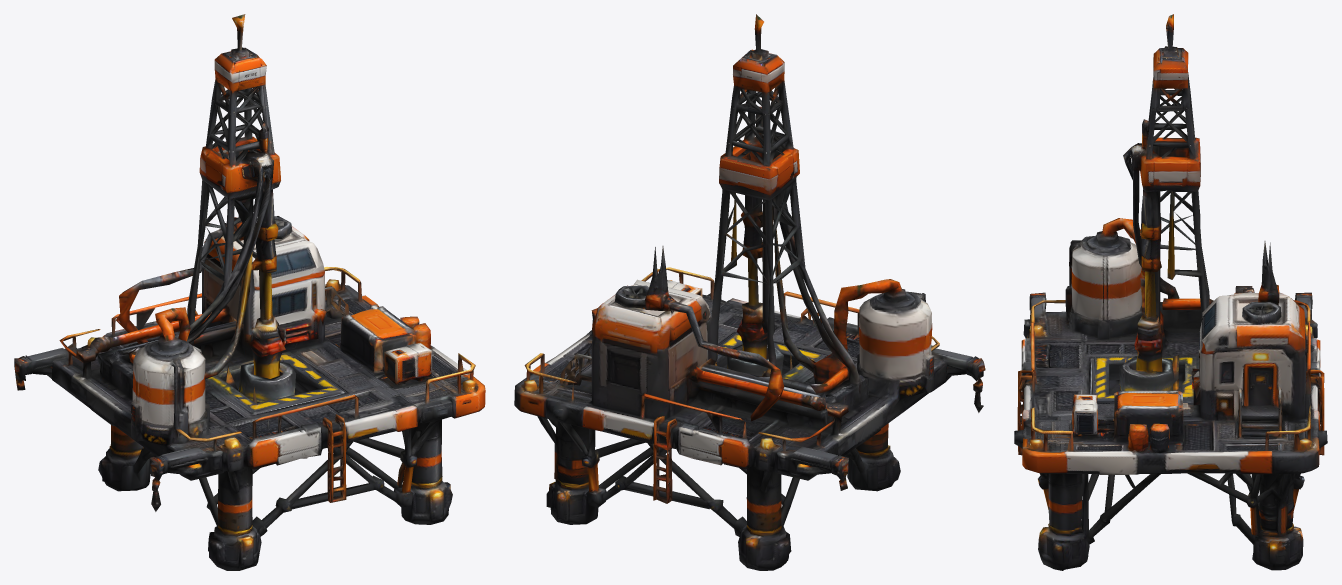
Rendered from building-extraction-rig-l1.glb.
3 renders of one model, left to right at view 1: azimuth 30°, elevation 25°; view 2: azimuth 150°, elevation 25°; view 3: azimuth 270°, elevation 25°, orthographic.
Visible parts, largest first — view 1: tripo_node_386b8020-7bd2-45f8-9927-3a1af3017b06; view 2: tripo_node_386b8020-7bd2-45f8-9927-3a1af3017b06; view 3: tripo_node_386b8020-7bd2-45f8-9927-3a1af3017b06.
Boxes of the visible parts, box(x1,y1,x2,y2) form: tripo_node_386b8020-7bd2-45f8-9927-3a1af3017b06: box(14, 14, 485, 570); tripo_node_386b8020-7bd2-45f8-9927-3a1af3017b06: box(514, 14, 985, 570); tripo_node_386b8020-7bd2-45f8-9927-3a1af3017b06: box(1014, 14, 1327, 570).
Bounding box in the file's own units: 0.6995 × 0.9797 × 0.5743.
1 material, 1 textured.
